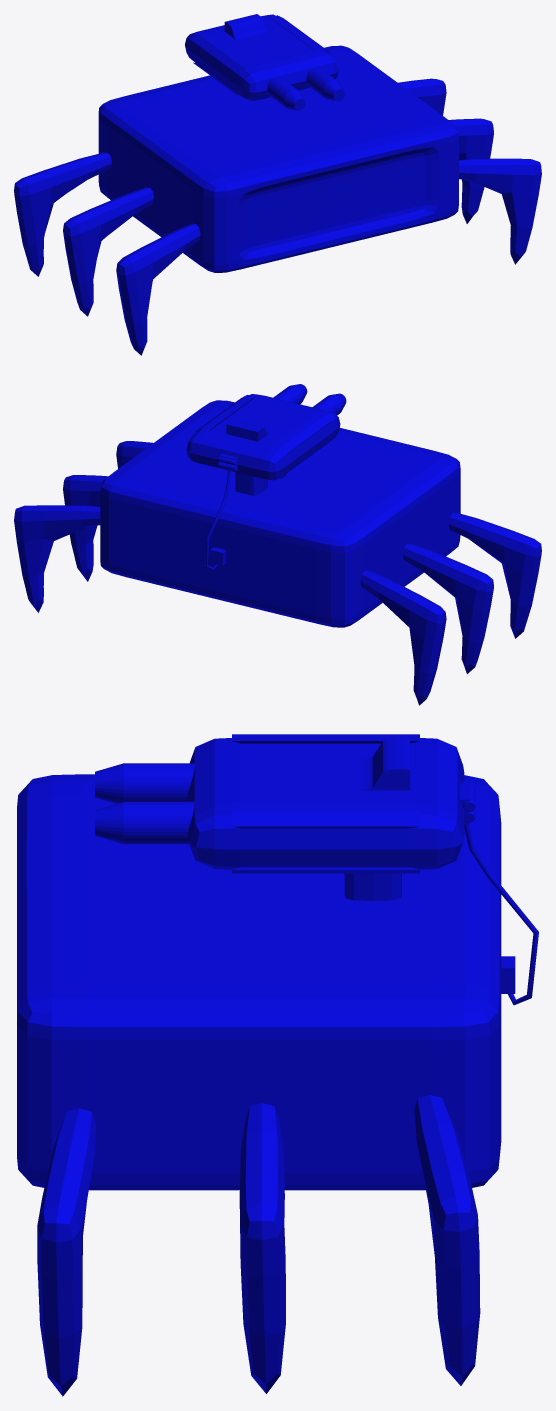
The model's file is square enemy 1.fbx.
3 renders of one model, top to bottom at view 1: azimuth 30°, elevation 25°; view 2: azimuth 150°, elevation 25°; view 3: azimuth 270°, elevation 25°, orthographic. The views are drawn at different scales.
Visible parts, largest first — view 1: Body; view 2: Body, BézierCurve; view 3: Body, BézierCurve.
Part boxes in pixels (left/top/right/bottom): Body: left=14, top=14, right=541, bottom=355; Body: left=14, top=384, right=541, bottom=705; BézierCurve: left=205, top=470, right=230, bottom=570; Body: left=17, top=734, right=515, bottom=1396; BézierCurve: left=464, top=824, right=538, bottom=1005.
Bounding box in the file's own units: 337 × 172 × 177.
